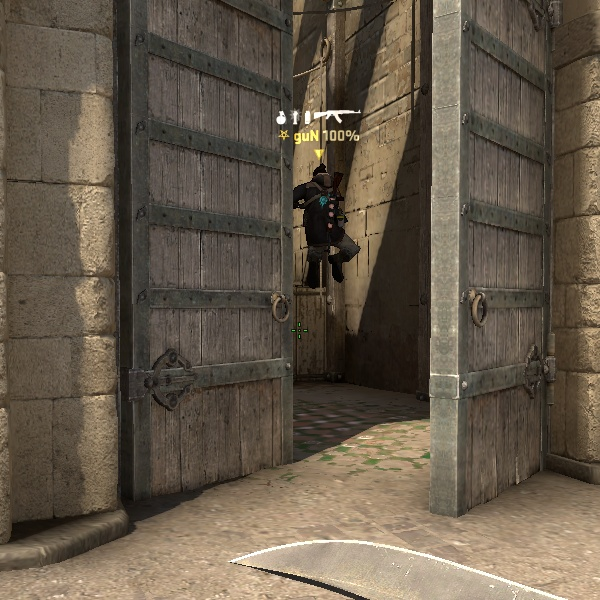t_body: (292, 160, 369, 284)
t_head: (307, 162, 337, 191)
